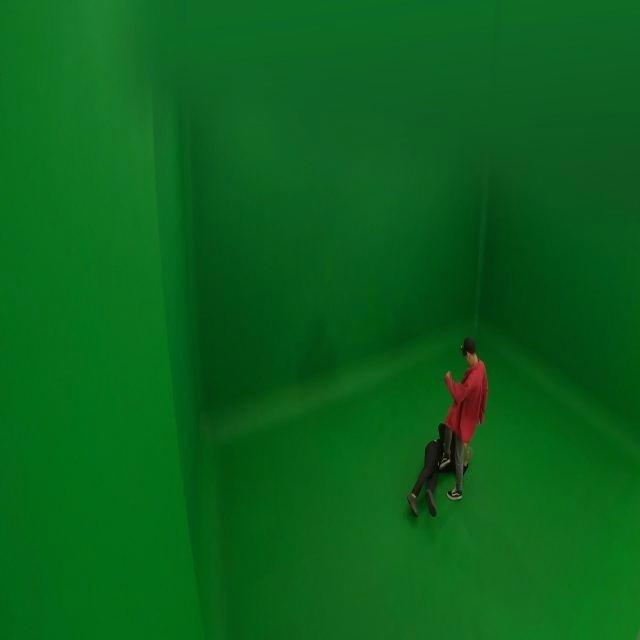fight: (409, 336, 486, 520)
